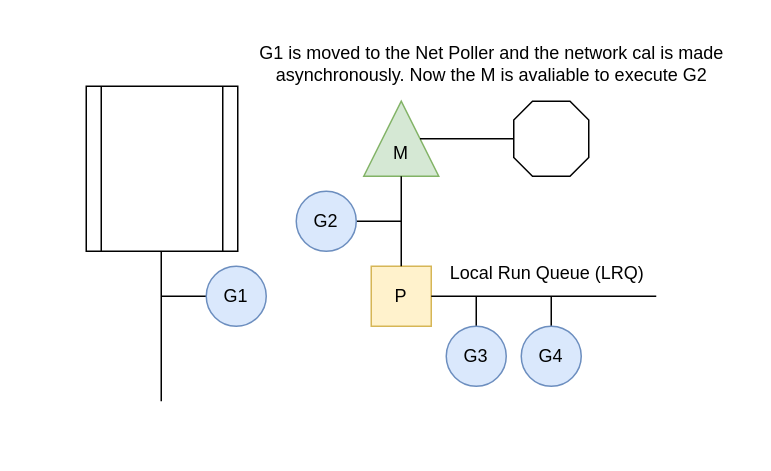
The diagram is 771 pixels wide and 471 high, and some of its shapes have lost their labels. Here are the shapes that lost their labels. From the top down, the centre of each, then its label:
At (550,138): "Core".
At (161,168): "Net Poller".
